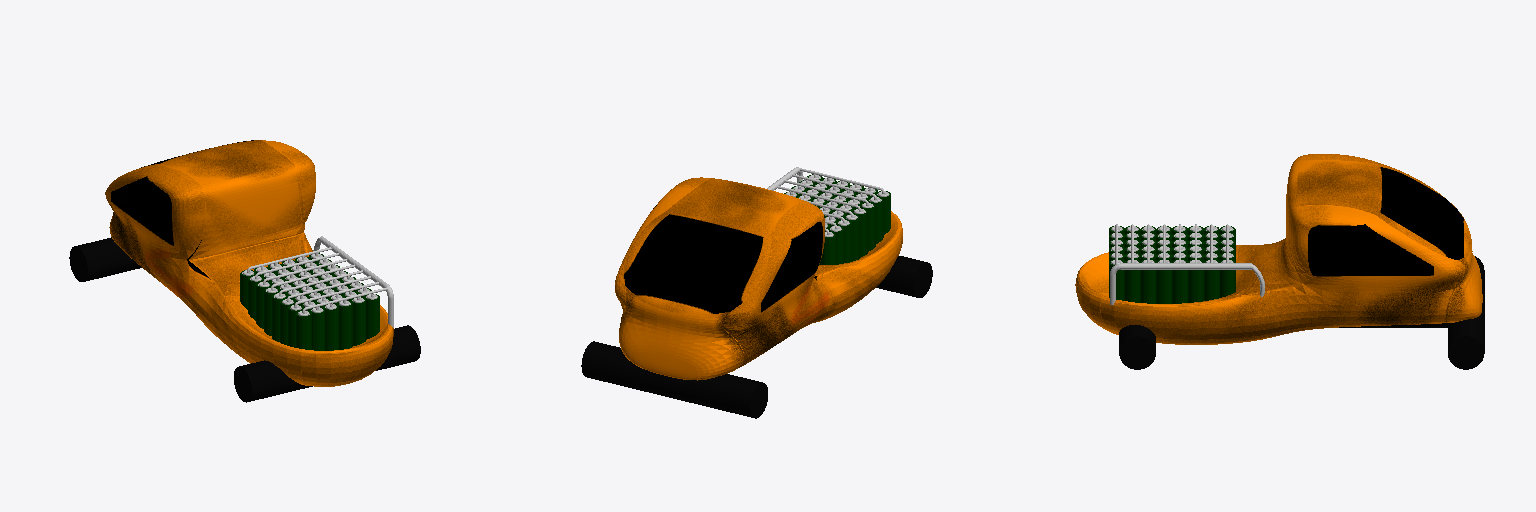
3 views of the same model, side by side, from view 1: azimuth 30°, elevation 25°; view 2: azimuth 150°, elevation 25°; view 3: azimuth 270°, elevation 25° (orthographic).
Parts seen in each view (by area): view 1: Cube_Cube.002, Cylinder.007_Cylinder.004, Cylinder.004_Cylinder.001, Cylinder.005_Cylinder.002, Cylinder.008_Cylinder.006; view 2: Cube_Cube.002, Cylinder.007_Cylinder.004, Cylinder.005_Cylinder.002, Cylinder.004_Cylinder.001; view 3: Cube_Cube.002, Cylinder.007_Cylinder.004, Cylinder.005_Cylinder.002, Cylinder.004_Cylinder.001, Cylinder.008_Cylinder.006.
Boxes of the visible parts, box(x1,y1,x2,y2) form: Cube_Cube.002: box(105, 140, 393, 386); Cylinder.007_Cylinder.004: box(240, 247, 387, 350); Cylinder.004_Cylinder.001: box(234, 325, 420, 402); Cylinder.005_Cylinder.002: box(69, 237, 141, 281); Cylinder.008_Cylinder.006: box(313, 236, 393, 327); Cube_Cube.002: box(615, 177, 902, 380); Cylinder.007_Cylinder.004: box(777, 168, 890, 264); Cylinder.005_Cylinder.002: box(581, 341, 767, 418); Cylinder.004_Cylinder.001: box(876, 256, 932, 297); Cube_Cube.002: box(1075, 154, 1482, 344); Cylinder.007_Cylinder.004: box(1109, 224, 1235, 303); Cylinder.005_Cylinder.002: box(1448, 256, 1484, 369); Cylinder.004_Cylinder.001: box(1119, 325, 1155, 369); Cylinder.008_Cylinder.006: box(1110, 263, 1264, 304).
Bounding box in the file's own units: 2.04 × 1.75 × 4.3.
4 materials, 1 textured.